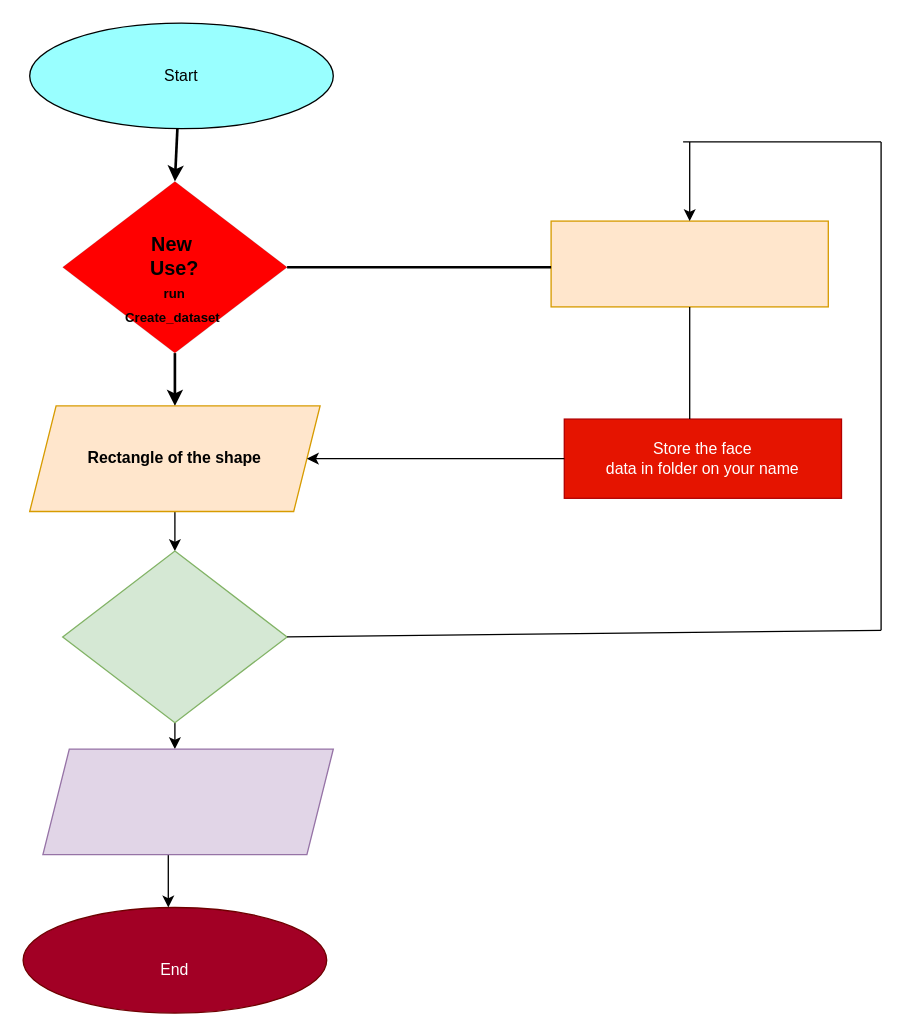
This 906x1036 diagram has some shape labels left out. The shapes that lost their labels are listed below. From the top down, each one's centre as x and y in pixels, then its label:
At point (689, 263): "Give you photograph".
At point (174, 636): "Face Reoragnise".
At point (187, 801): "Stored in csv file with registration number& data Time of Entry".
